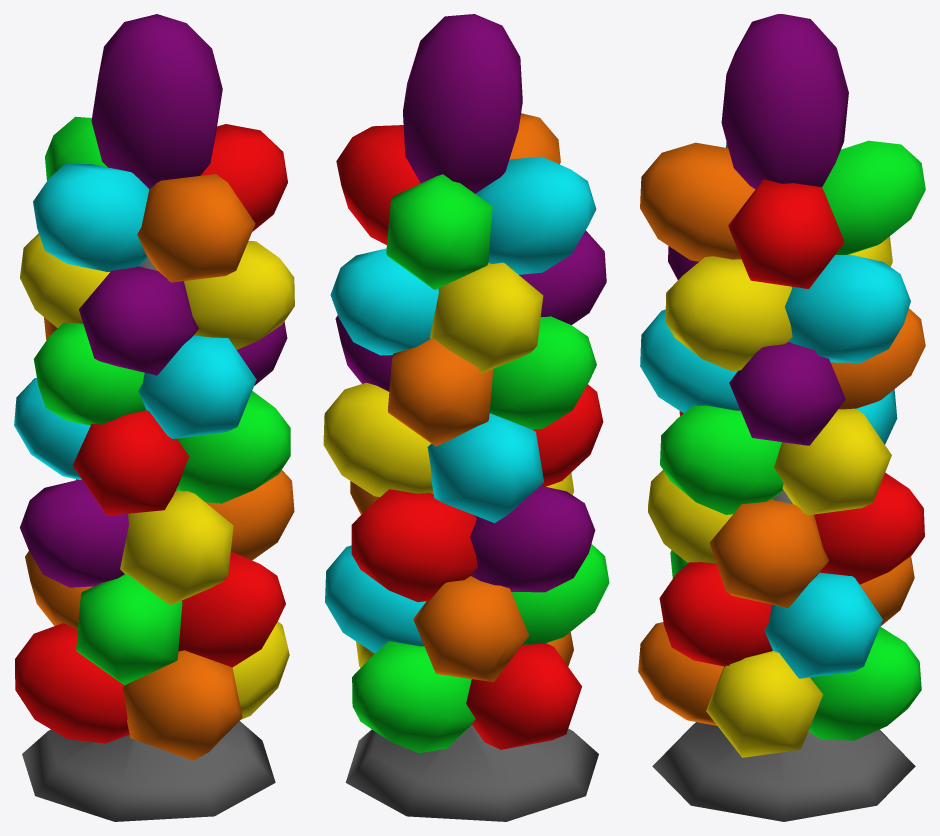
Rendered from balloonTower.fbx.
The picture shows the model from 3 angles, left to right: view 1: azimuth 30°, elevation 25°; view 2: azimuth 150°, elevation 25°; view 3: azimuth 270°, elevation 25°; orthographic projection.
Visible parts, largest first — view 1: Sphere.031; view 2: Sphere.031; view 3: Sphere.031.
Part boxes in pixels (x1,y1,x2,y2): Sphere.031: [14, 14, 294, 821]; Sphere.031: [323, 14, 609, 821]; Sphere.031: [638, 14, 925, 821].
Bounding box in the file's own units: 195 × 559 × 194.
